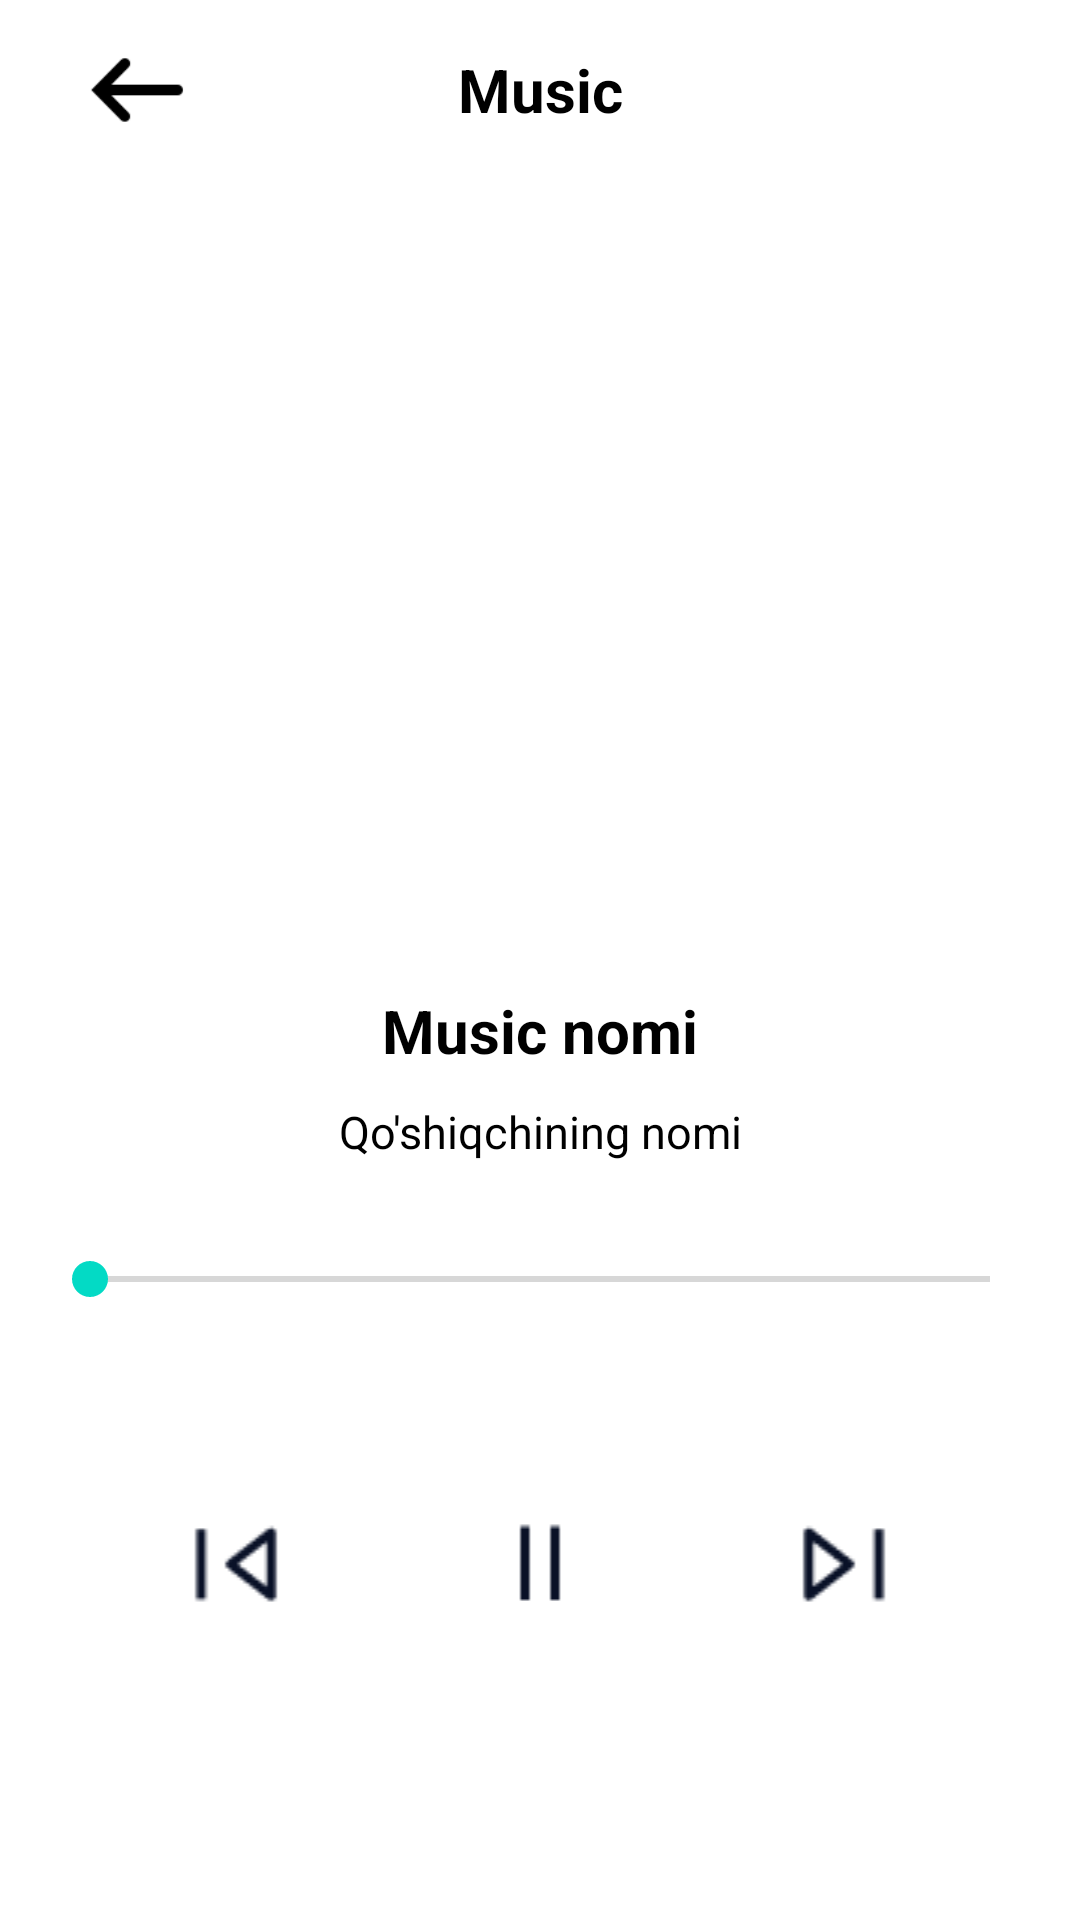

Icons on this 1080px x 1920px Android screen, each with its box as {"x1": x1, "y1": y1, "x2": x2, "y2": y2}:
back: {"x1": 91, "y1": 58, "x2": 183, "y2": 122}, {"x1": 194, "y1": 1526, "x2": 278, "y2": 1602}
next: {"x1": 802, "y1": 1526, "x2": 886, "y2": 1602}
pause: {"x1": 519, "y1": 1524, "x2": 561, "y2": 1601}
